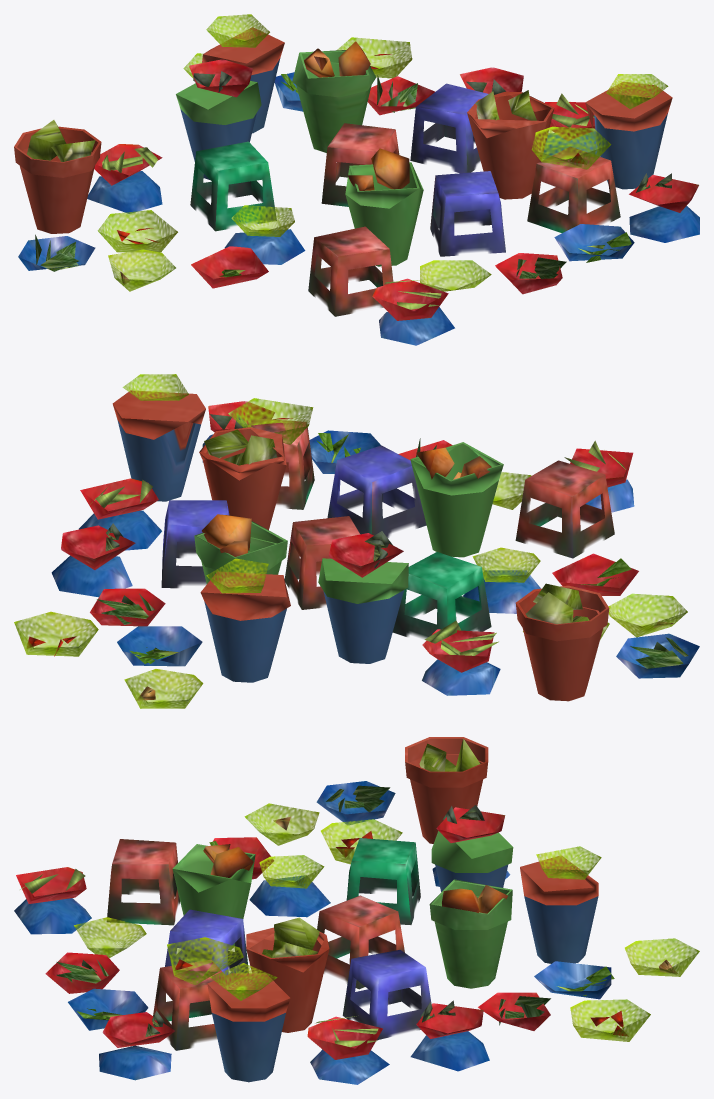
File: sap-rau.glb
The picture shows the model from 3 angles, top to bottom: view 1: azimuth 30°, elevation 25°; view 2: azimuth 150°, elevation 25°; view 3: azimuth 270°, elevation 25°; orthographic projection. The views are drawn at different scales.
Parts seen in each view (by area): view 1: Circle.006, PlasticChair3.001, Circle.019; view 2: Circle.006, PlasticChair3.001, Circle.019; view 3: Circle.006, Circle.019, PlasticChair3.001.
Part boxes in pixels (x1,y1,x2,y2): Circle.006: (308, 74, 699, 345); PlasticChair3.001: (14, 59, 305, 291); Circle.019: (183, 14, 598, 206); Circle.006: (112, 374, 634, 558); PlasticChair3.001: (318, 531, 699, 701); Circle.019: (14, 478, 360, 708); Circle.006: (14, 839, 329, 1082); Circle.019: (307, 846, 699, 1084); PlasticChair3.001: (209, 737, 513, 924).
Bounding box in the file's own units: 0.9951 × 0.1835 × 0.9854.
Materials: 1 (1 with a texture image).
